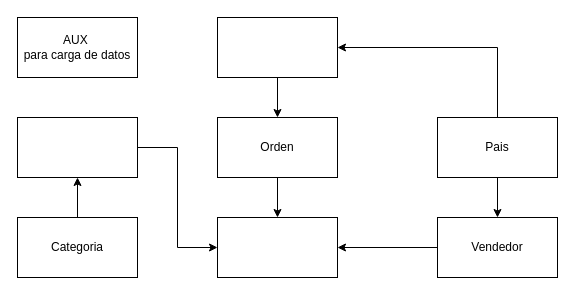
The diagram is 575 pixels wide and 295 high, and some of its shapes have lost their labels. Here are the shapes that lost their labels. From the top down, the centre of each, then its label:
point (277, 47): Cliete
point (77, 147): Producto
point (277, 247): Detalle
